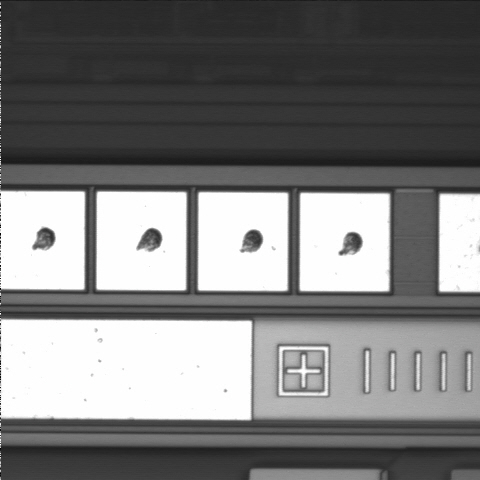pad: (198, 192, 288, 291), (300, 193, 390, 291), (97, 192, 186, 290)
